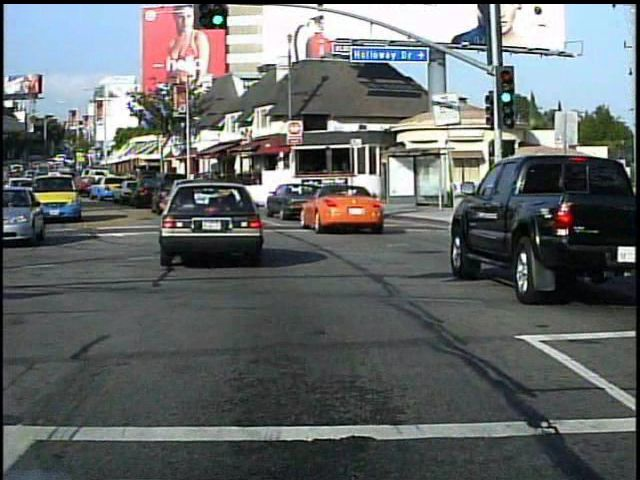person: (580, 187, 603, 251)
